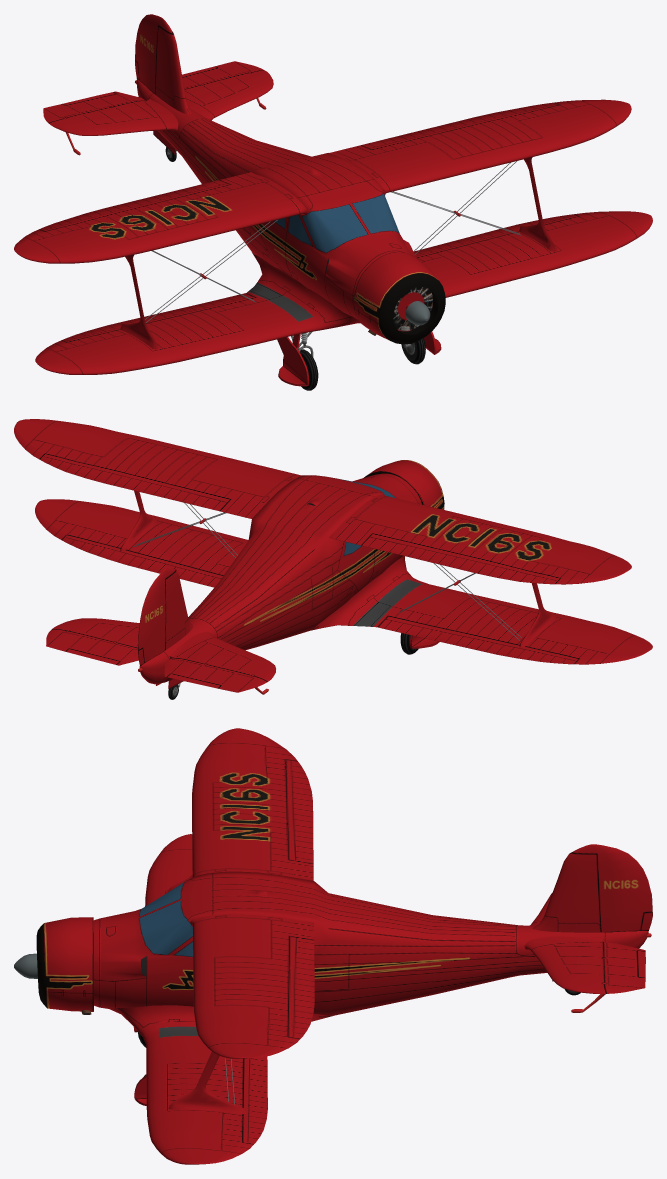
Rendered from beech17.glb.
3 renders of one model, top to bottom at view 1: azimuth 30°, elevation 25°; view 2: azimuth 150°, elevation 25°; view 3: azimuth 270°, elevation 25°, orthographic. The views are drawn at different scales.
Parts seen in each view (by area): view 1: Line_A09-FACES.001, Line46-FACES.001, Line55-FACES.001, Line16-FACES.001, Line18-FACES.001, Object10-FACES.001, Object06-FACES.001, Cylinder01-FACES.001, Line54-FACES.001, Line32-FACES.001, Line47-FACES.001, Line34-FACES.001 (+1 smaller); view 2: Line_A09-FACES.001, Line46-FACES.001, Line55-FACES.001, Line16-FACES.001, Line18-FACES.001, Object10-FACES.001, Object06-FACES.001, Cylinder01-FACES.001, Line47-FACES.001, Line32-FACES.001, Line35-FACES.001; view 3: Line_A09-FACES.001, Line16-FACES.001, Line55-FACES.001, Line18-FACES.001, Cylinder01-FACES.001, Object06-FACES.001, Line46-FACES.001, Line32-FACES.001.
Boxes of the visible parts, left/top/right/bottom form: Line_A09-FACES.001: left=136, top=79, right=445, bottom=344; Line46-FACES.001: left=35, top=252, right=360, bottom=374; Line55-FACES.001: left=14, top=172, right=307, bottom=263; Line16-FACES.001: left=329, top=99, right=631, bottom=195; Line18-FACES.001: left=413, top=211, right=652, bottom=297; Object10-FACES.001: left=43, top=91, right=178, bottom=135; Object06-FACES.001: left=182, top=61, right=273, bottom=120; Cylinder01-FACES.001: left=135, top=14, right=191, bottom=114; Line54-FACES.001: left=277, top=337, right=309, bottom=386; Line32-FACES.001: left=519, top=157, right=557, bottom=251; Line47-FACES.001: left=120, top=255, right=158, bottom=349; Line34-FACES.001: left=391, top=161, right=520, bottom=254; Line_A09-FACES.001: left=139, top=460, right=444, bottom=684; Line46-FACES.001: left=310, top=556, right=652, bottom=664; Line55-FACES.001: left=329, top=494, right=631, bottom=584; Line16-FACES.001: left=14, top=419, right=303, bottom=518; Line18-FACES.001: left=35, top=499, right=248, bottom=587; Object10-FACES.001: left=164, top=632, right=275, bottom=692; Object06-FACES.001: left=46, top=618, right=139, bottom=665; Cylinder01-FACES.001: left=138, top=568, right=193, bottom=665; Line47-FACES.001: left=519, top=583, right=556, bottom=648; Line32-FACES.001: left=120, top=490, right=157, bottom=551; Line35-FACES.001: left=398, top=563, right=521, bottom=640; Line_A09-FACES.001: left=36, top=871, right=648, bottom=1015; Line16-FACES.001: left=190, top=914, right=314, bottom=1058; Line55-FACES.001: left=192, top=728, right=313, bottom=880; Line18-FACES.001: left=109, top=1005, right=334, bottom=1164; Cylinder01-FACES.001: left=532, top=844, right=652, bottom=932; Object06-FACES.001: left=524, top=936, right=645, bottom=993; Line46-FACES.001: left=145, top=834, right=192, bottom=906; Line32-FACES.001: left=168, top=1052, right=247, bottom=1113.
Bounding box in the file's own units: 19.68 × 6.6 × 16.12.
Materials: 49 (46 with a texture image).
